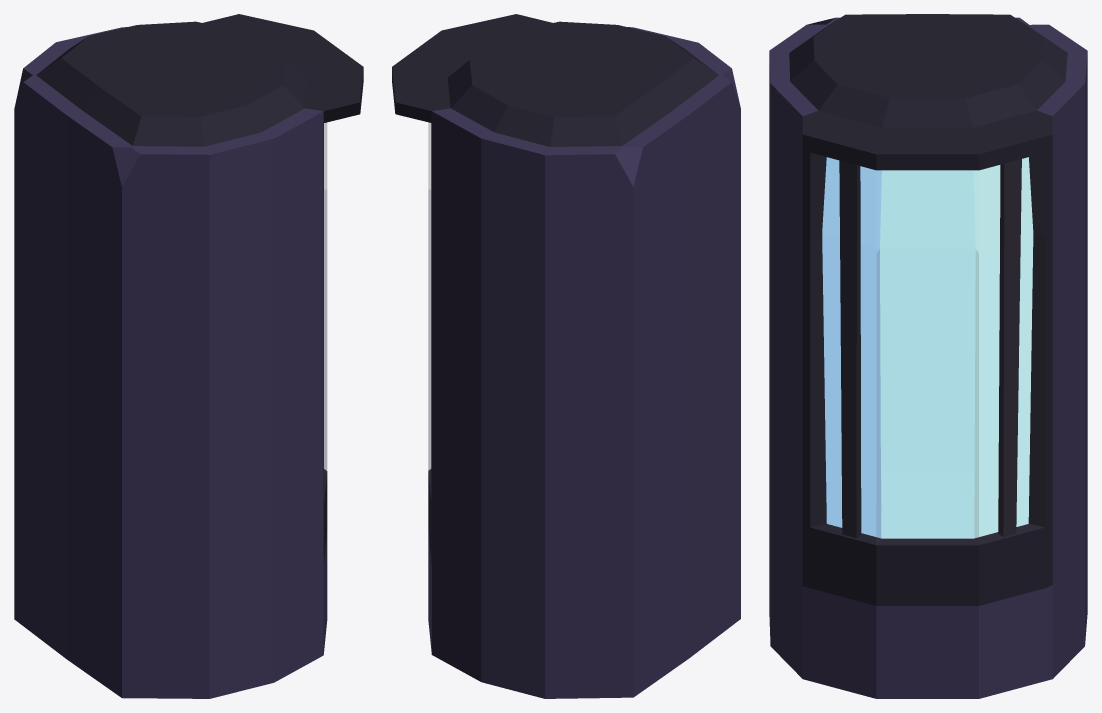
File: Capsule_Contenier.fbx
3 views of the same model, side by side, from view 1: azimuth 30°, elevation 25°; view 2: azimuth 150°, elevation 25°; view 3: azimuth 270°, elevation 25° (orthographic). The views are drawn at different scales.
Parts seen in each view (by area): view 1: Contement_Capsule; view 2: Contement_Capsule; view 3: Contement_Capsule.
Part boxes in pixels (x1,y1,x2,y2): Contement_Capsule: [14, 14, 363, 698]; Contement_Capsule: [392, 14, 740, 698]; Contement_Capsule: [769, 14, 1087, 698].
Bounding box in the file's own units: 1.17 × 2.32 × 1.15.
